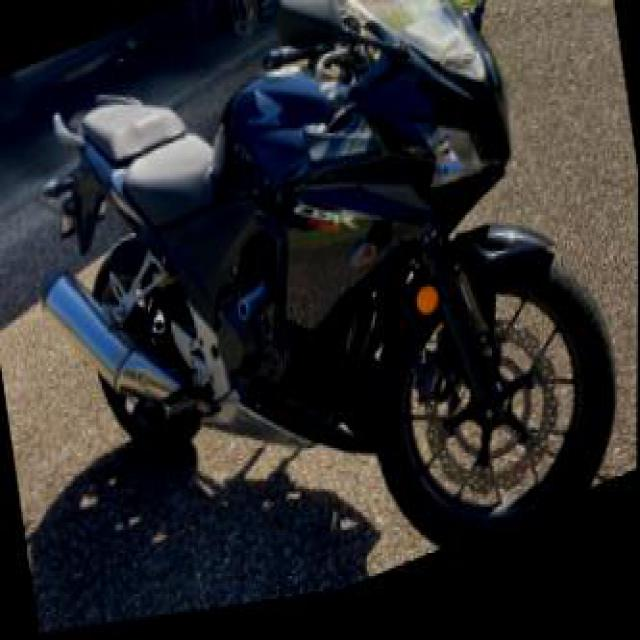CBR500R: (29, 0, 636, 635)
